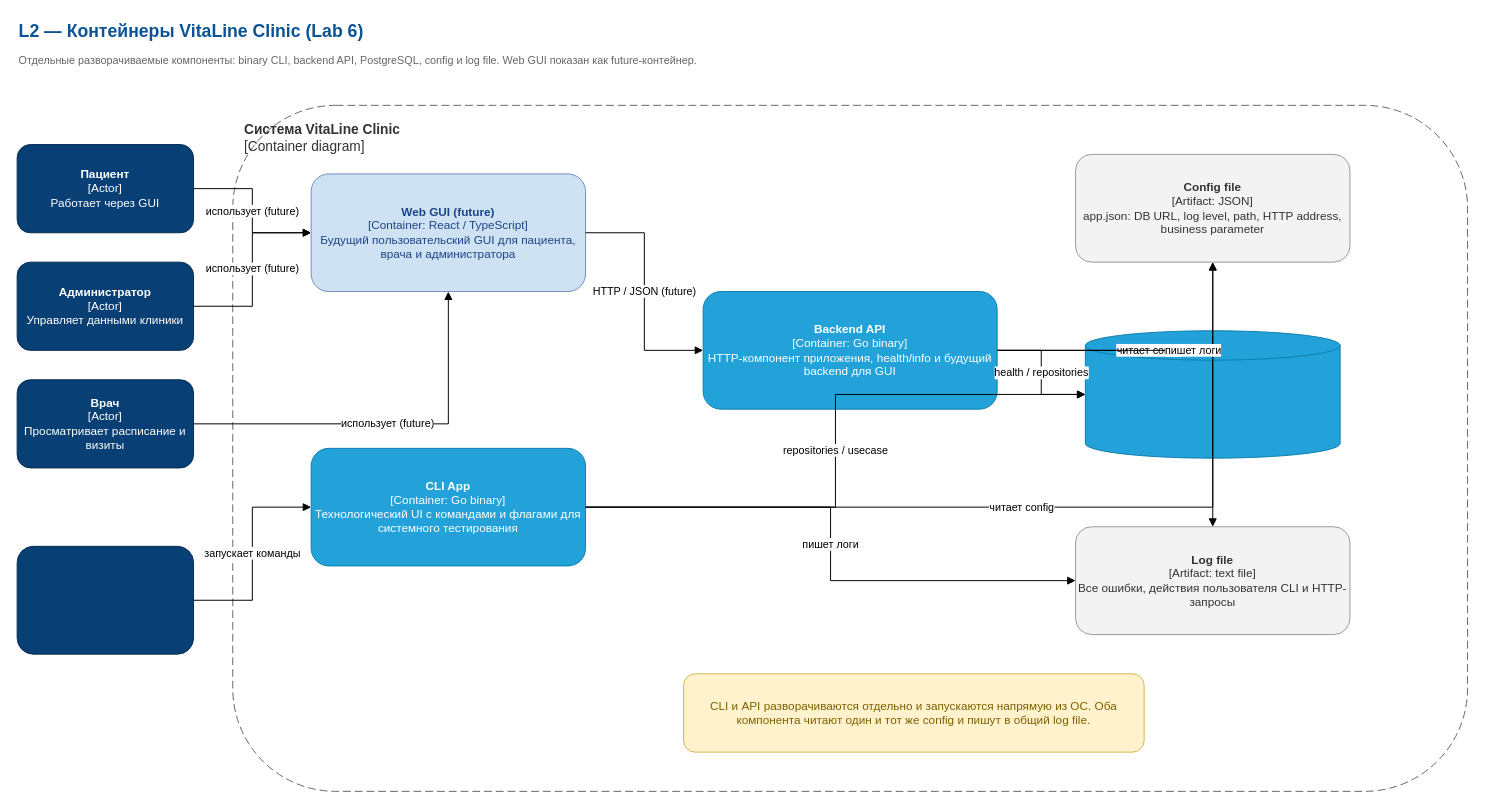
Some shapes in this 1485 by 809 pixel diagram are drawn without their labels. Each missing label, with the box of its shape:
PostgreSQL [Container: Database] Основное хранилище приложения: (1084, 330, 1340, 458)
Оператор / Тестировщик [Actor] Запускает технологический UI из терминала: (16, 545, 194, 654)
